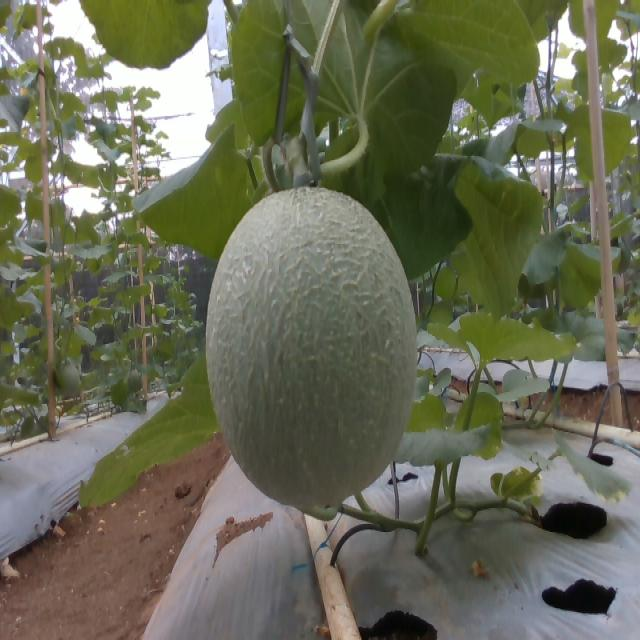melon: (206, 187, 417, 513)
